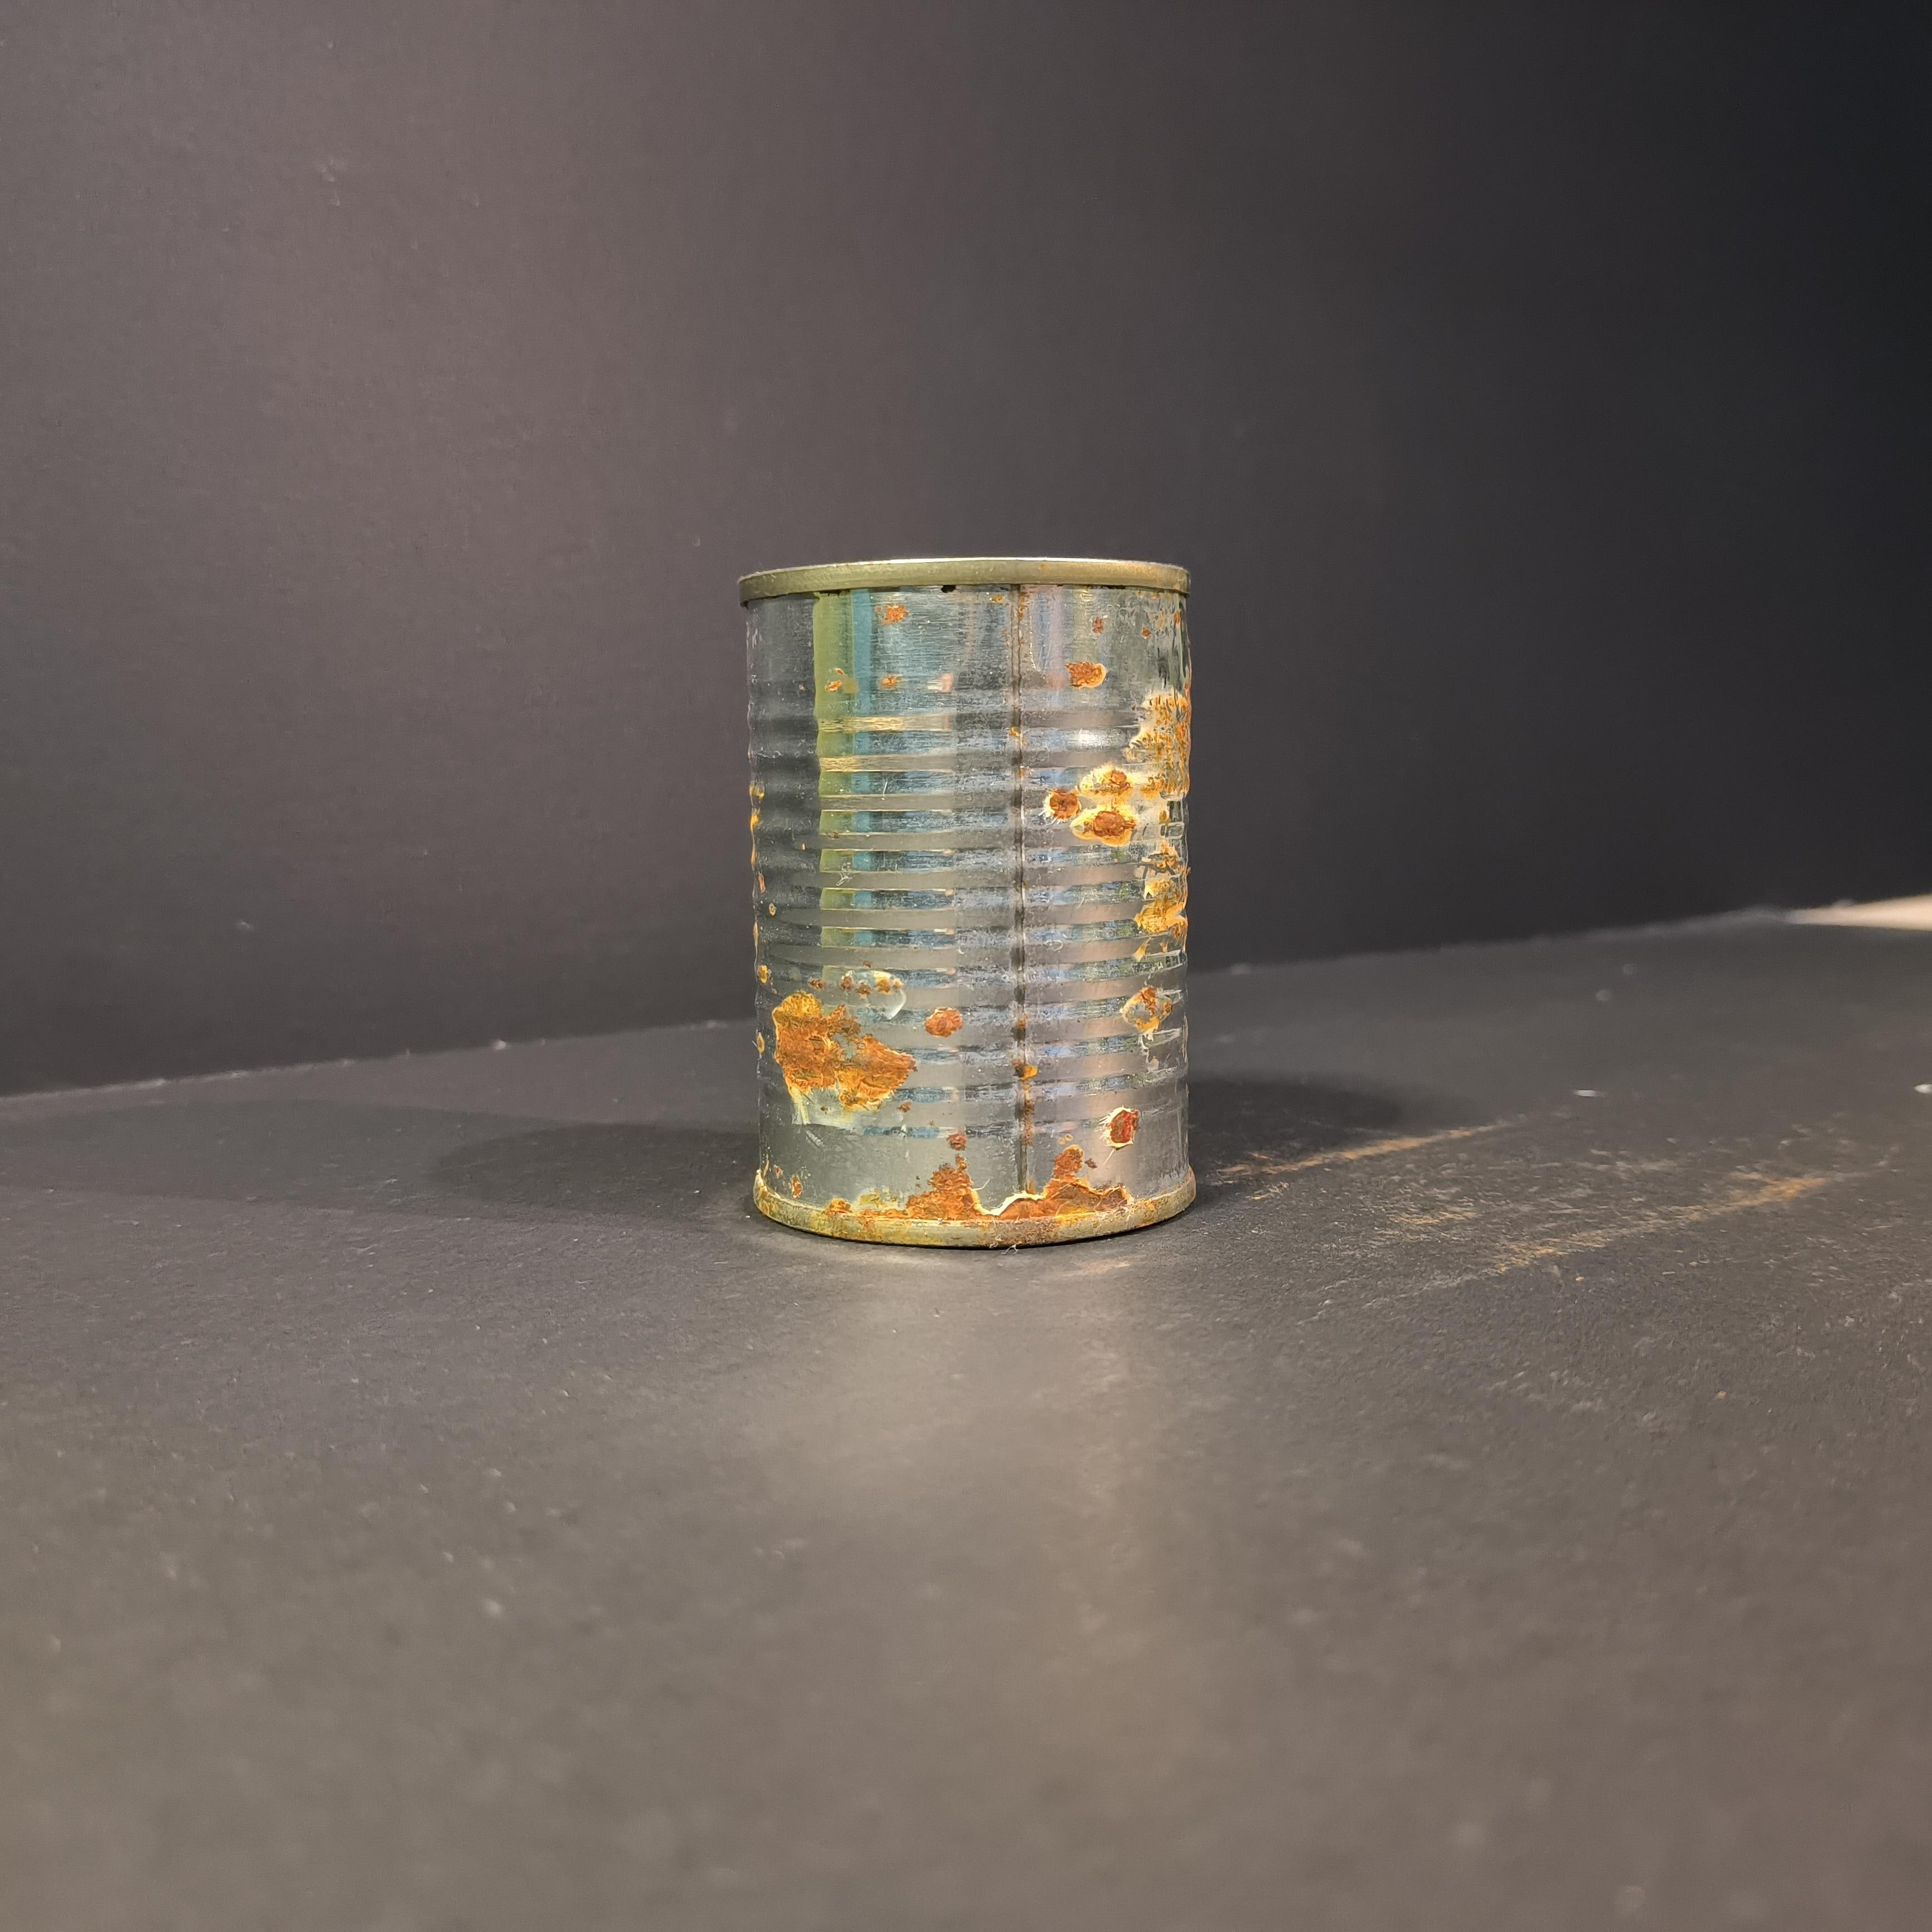Rusted: (729, 534, 1224, 1288)
